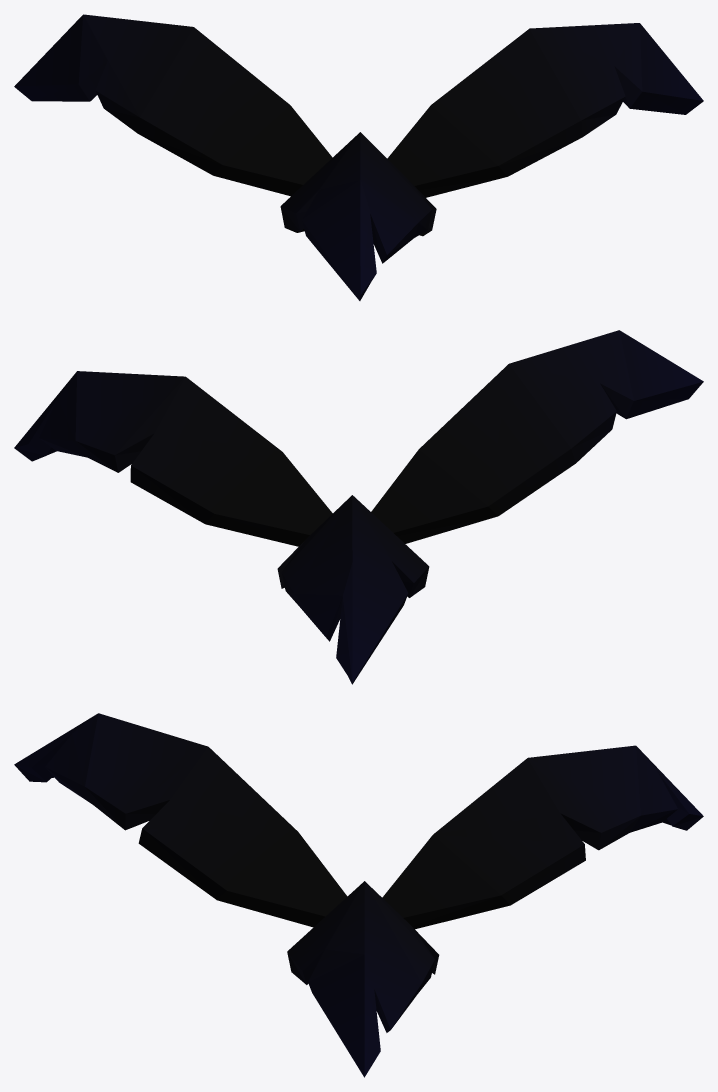
File: ShrubFern01.fbx
3 views of the same model, one above another, from view 1: azimuth 30°, elevation 25°; view 2: azimuth 150°, elevation 25°; view 3: azimuth 270°, elevation 25° (orthographic).
Parts seen in each view (by area): view 1: ShrubFern01_LOD0; view 2: ShrubFern01_LOD0; view 3: ShrubFern01_LOD0.
Part boxes in pixels (x1,y1,x2,y2): ShrubFern01_LOD0: (14, 14, 703, 300); ShrubFern01_LOD0: (14, 330, 703, 684); ShrubFern01_LOD0: (14, 713, 703, 1077).
Size of what is drawn, in the model's own units: 68.99 by 21.1 by 80.5.
